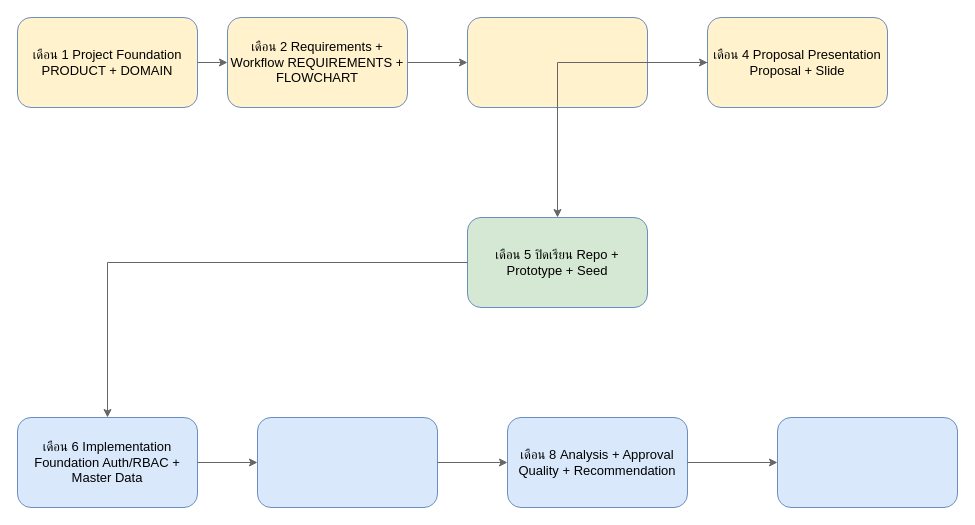
Image size: 975x525. Some labels were removed from this diagram. Each missing label, with the centre of its shape:
เดือน 3 Data Model + Design ERD + DESIGN + TEST_PLAN: [557,62]
เดือน 7 Scheduling Core Assignment + Manual + Conflict: [347,462]
เดือน 9 Final Delivery Tests + Report + Presentation: [867,462]
